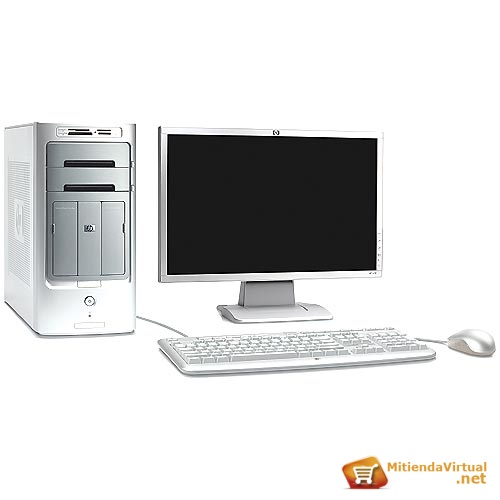Teclado: (155, 325, 438, 378)
